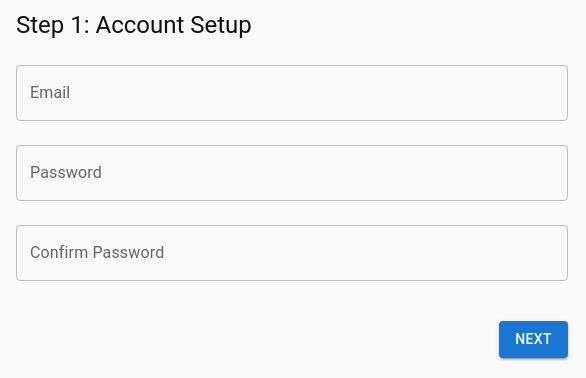
Test case: StepOne Component › shows validation errors on empty submit
Step 1. Click the button "Next" → (534,340), box [499, 321, 568, 358]
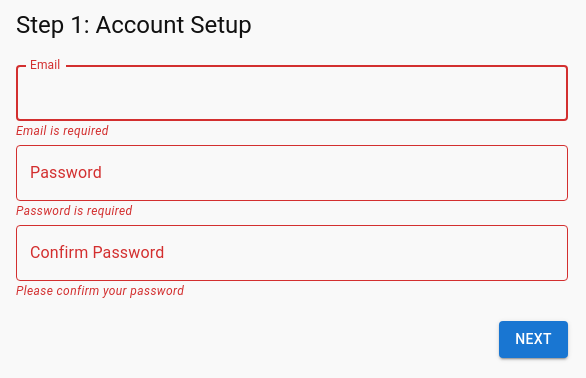
Expected: the text "Email is required" is shown, [16, 122, 109, 141]
Expected: the text "Password is required" is shown, [16, 202, 133, 221]
Expected: the text "Please confirm your password" is shown, [16, 282, 184, 301]
